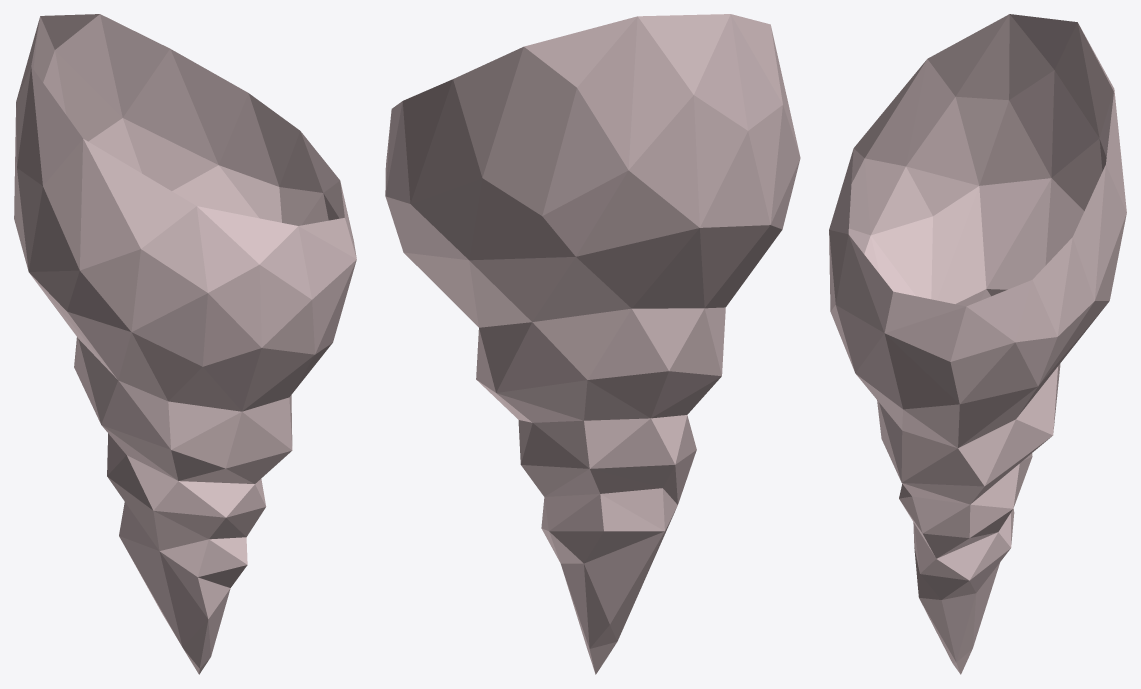
Rendered from Shell_03.fbx.
The picture shows the model from 3 angles, left to right: view 1: azimuth 30°, elevation 25°; view 2: azimuth 150°, elevation 25°; view 3: azimuth 270°, elevation 25°; orthographic projection. The views are drawn at different scales.
Parts seen in each view (by area): view 1: Shell_03; view 2: Shell_03; view 3: Shell_03.
Part boxes in pixels (bbox=[...]): Shell_03: bbox=[14, 14, 356, 674]; Shell_03: bbox=[385, 14, 800, 674]; Shell_03: bbox=[829, 14, 1126, 674].
Bounding box in the file's own units: 238 × 462 × 205.
